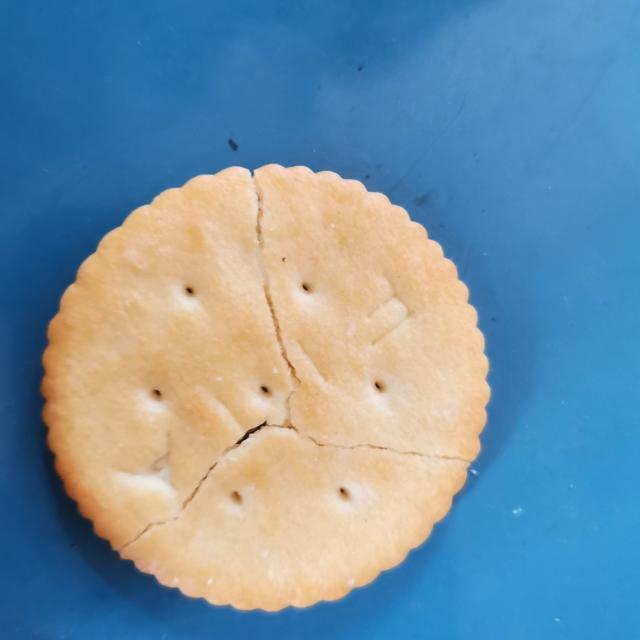Fracture: (101, 168, 481, 567)
